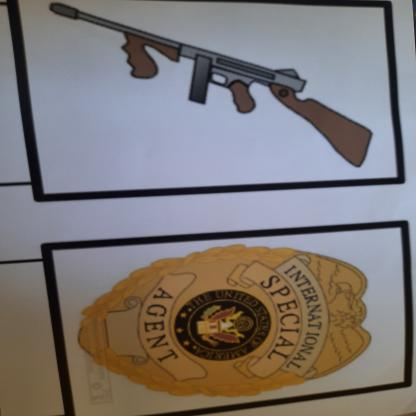Bootlegger: (27, 1, 402, 178)
G-man: (55, 235, 390, 405)
